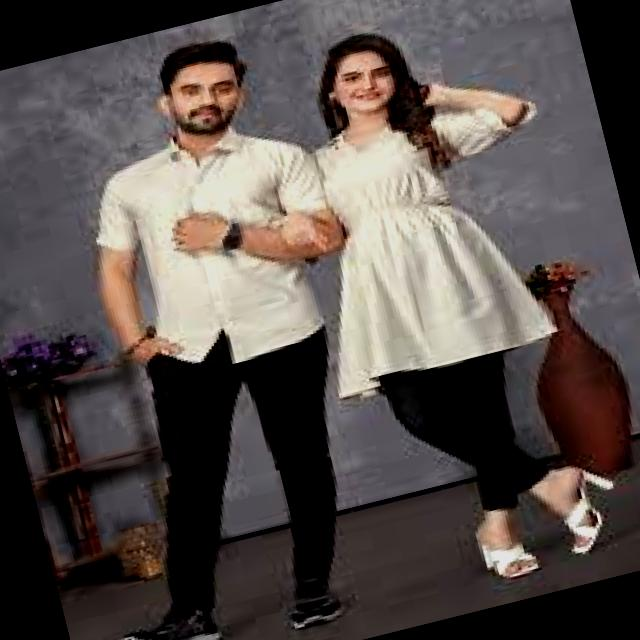dress: (317, 128, 556, 397)
face: (160, 62, 244, 135), (329, 51, 397, 118)
foot-wear: (565, 470, 614, 555), (120, 609, 223, 639), (289, 577, 344, 630), (478, 542, 541, 579), (289, 592, 344, 630)
lower-wear: (148, 330, 337, 614), (379, 352, 548, 511)
top-wear: (76, 114, 356, 386)
